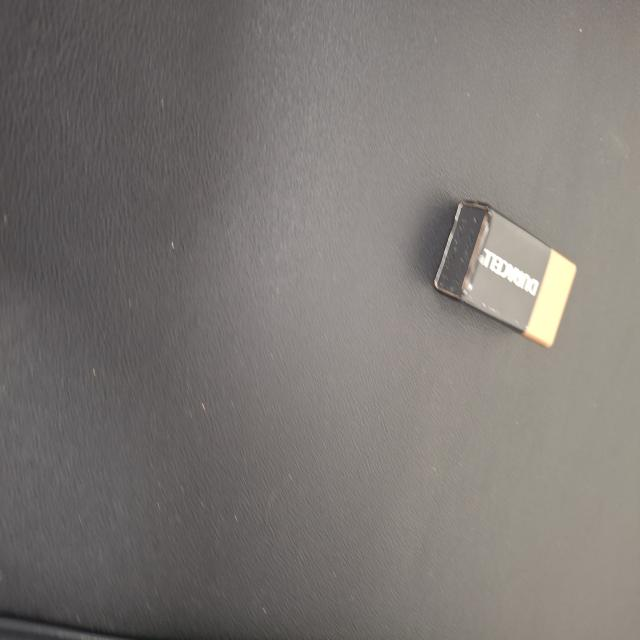9V: (151, 86, 260, 274)
